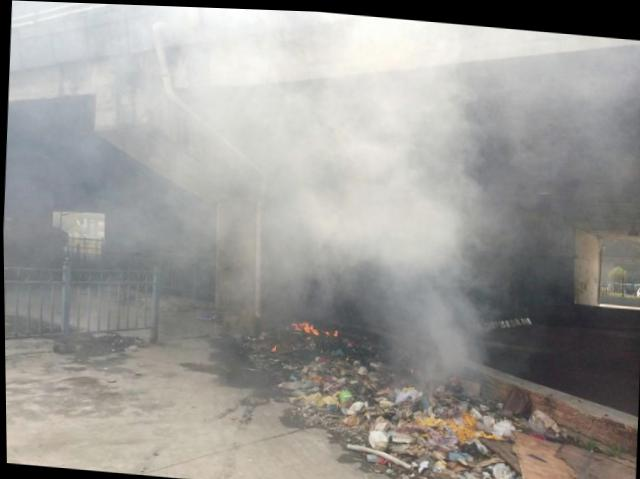fire: (290, 316, 318, 330)
